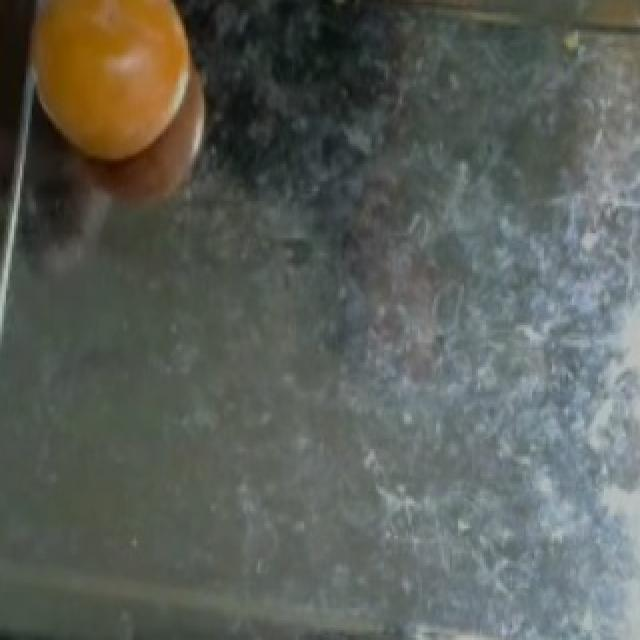Fruit: (6, 0, 222, 189)
